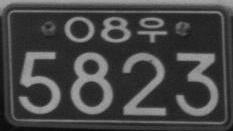0: (63, 15, 95, 43)
2: (122, 50, 167, 116)
3: (175, 51, 220, 117)
5: (17, 50, 61, 115)
8: (69, 51, 113, 115), (99, 15, 132, 44)
우: (136, 15, 167, 43)
